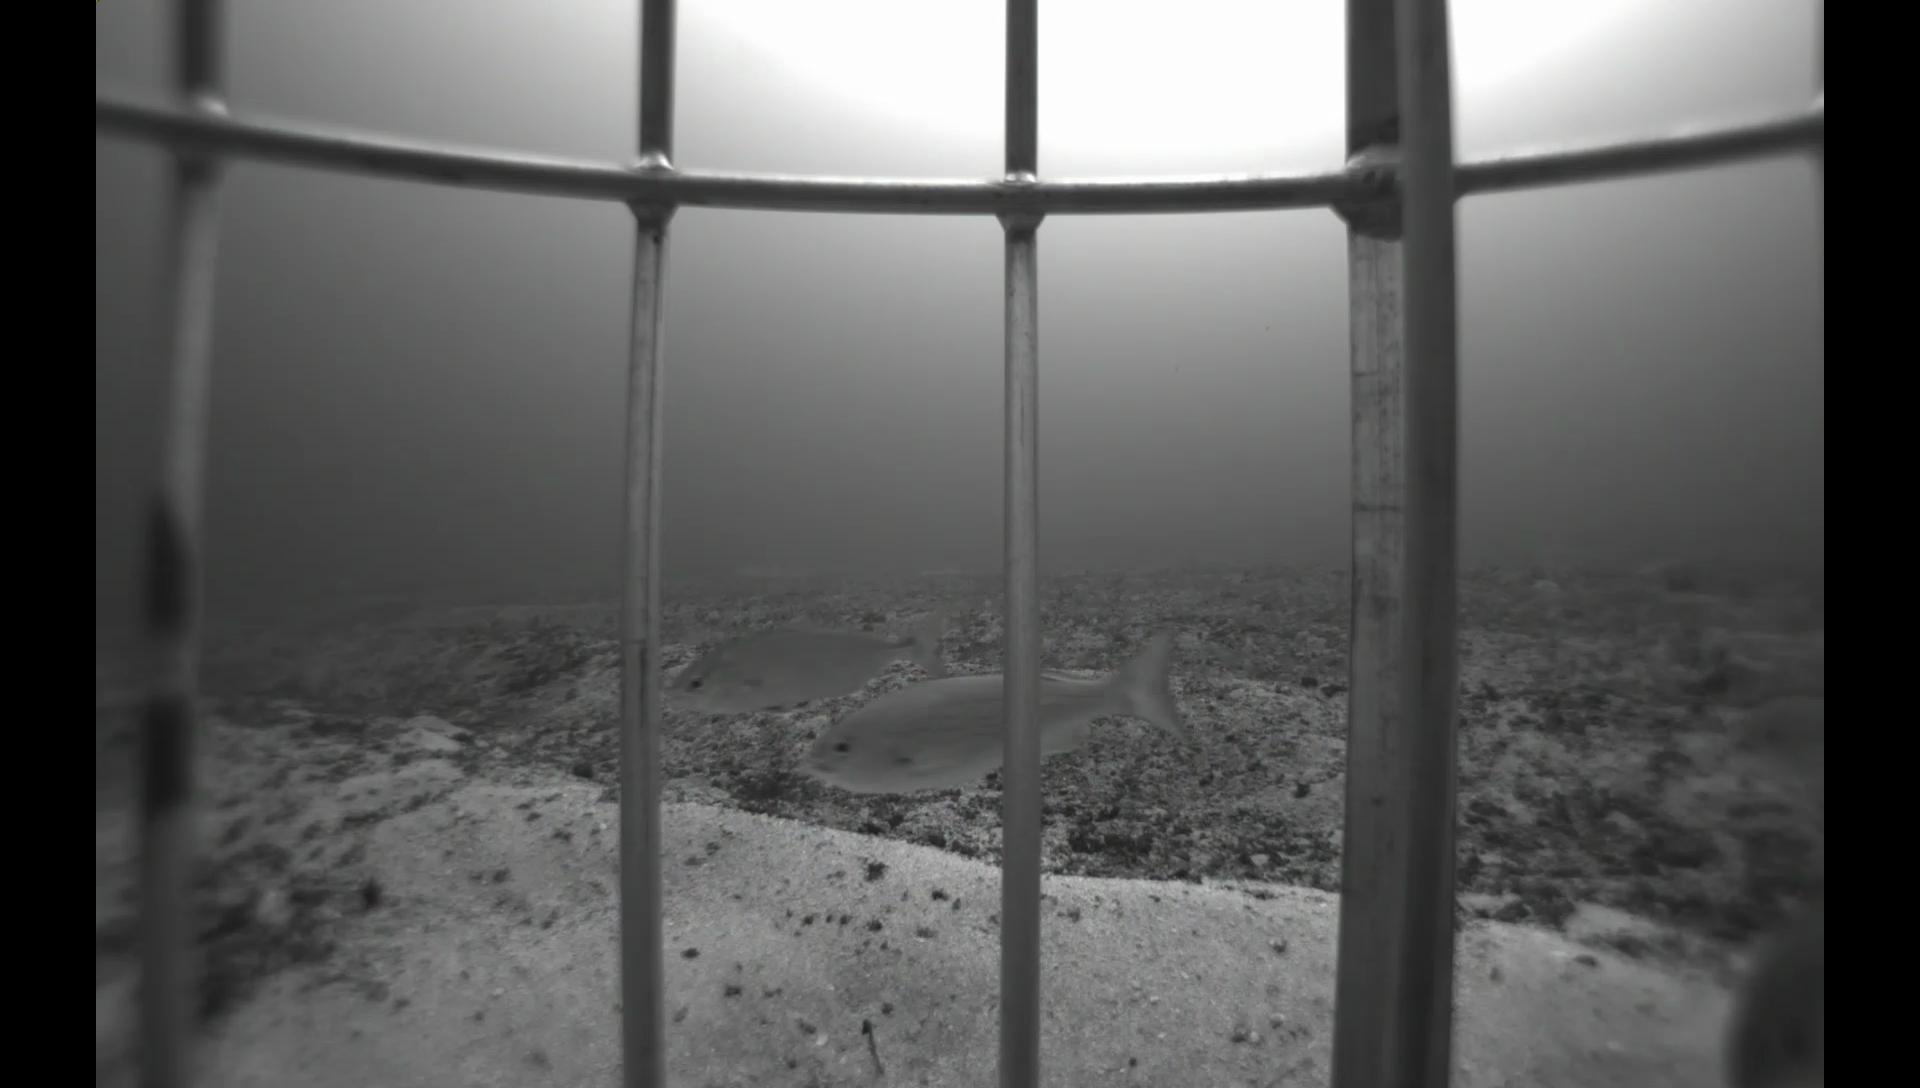CALAMUSPRORIDENS-170210605: (98, 724, 225, 824)
RHOMBOPLITESAURORUBENS-170152001: (795, 619, 1215, 808), (1698, 873, 1822, 1087), (1716, 695, 1822, 785)
SERIOLAFASCIATA-170113103: (655, 601, 963, 728)
